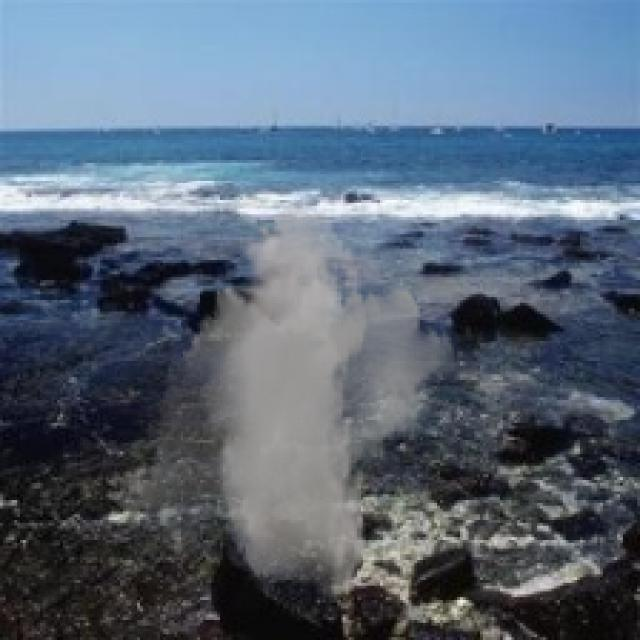smoke: (103, 206, 466, 600)
